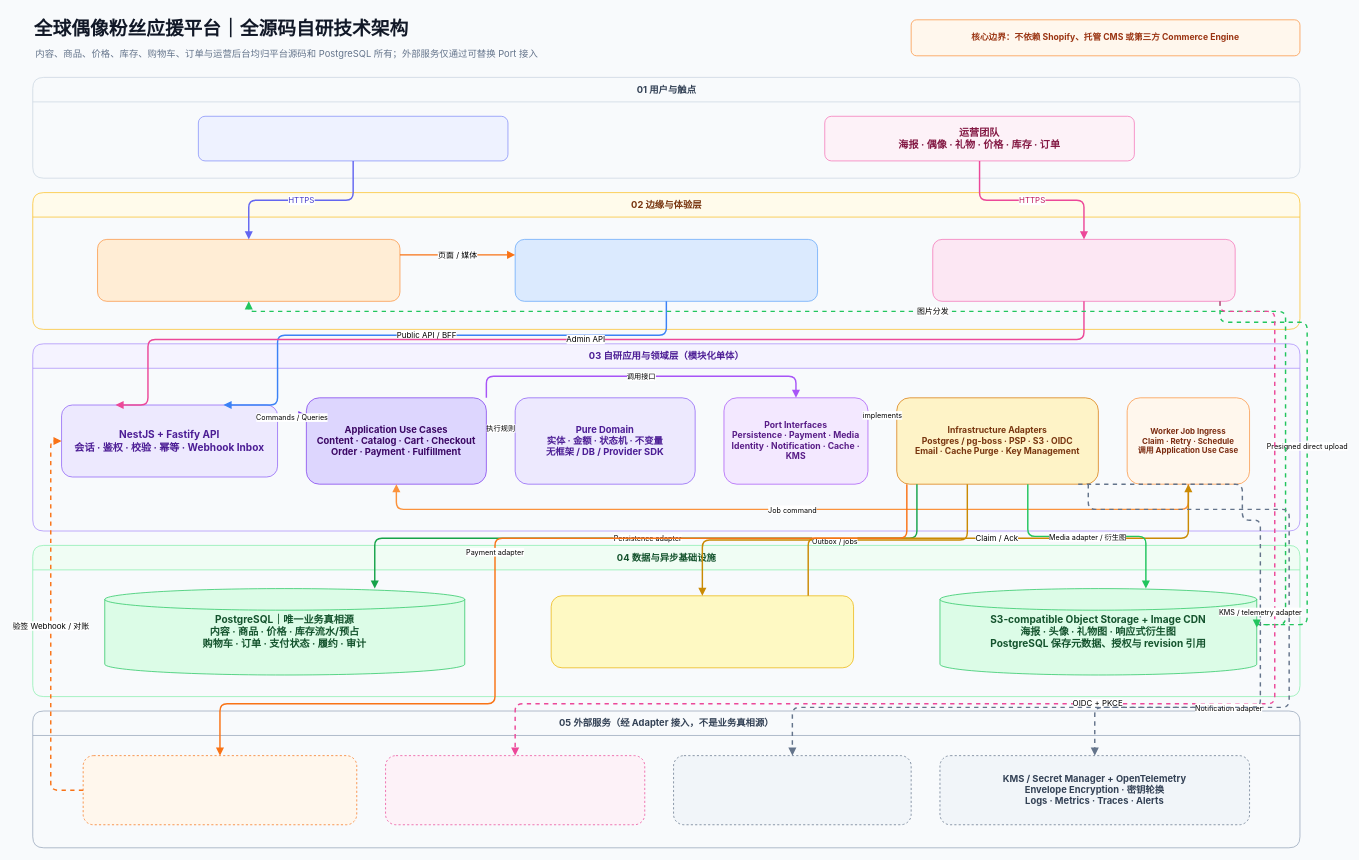
Some shapes in this 1359 by 860 pixel diagram are drawn without their labels. The shapes that lost their labels are listed below. From the top down, each one's centre as x and y in pixels, then its label:
At [353,138]: "全球粉丝 发现偶像 · 选礼 · 支付 · 查单".
At [248,270]: "CDN · WAF · TLS · Bot / Rate Limit 静态缓存 · 图片分发 · 精确失效".
At [666,270]: "Next.js Storefront SSR / RSC · i18n · SEO · 无障碍 · 高级动效".
At [1083,270]: "Next.js Admin 草稿 · 预览 · 发布 · 回滚 · RBAC · 审计".
At [702,631]: "Transactional Outbox + pg-boss 与业务事务同库提交 至少一次投递 · 幂等消费 · Dead Letter".
At [219,790]: "PSP Hosted Payment 卡 / 钱包 / 本地支付 · 退款 · 签名 Webhook 平台不接触 PAN / CVV".
At [515,790]: "OIDC Identity Provider 运营登录 · MFA · PKCE 平台维护 Session / RBAC / 审计".
At [792,790]: "Transactional Email 支付确认 · 订单状态 · 运营告警".
